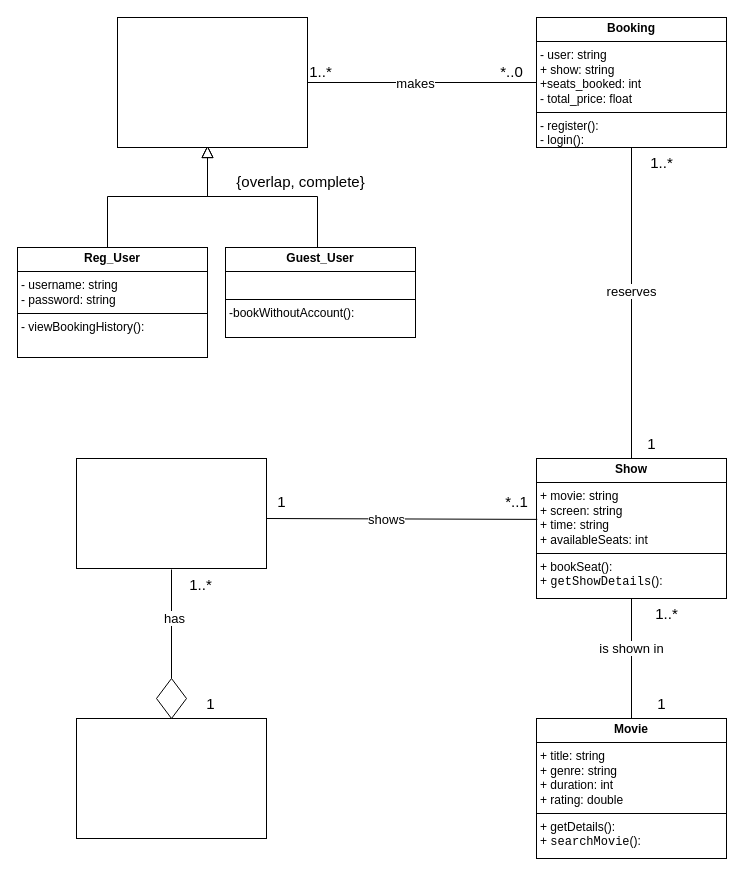
This 744x876 diagram has some shape labels left out. The centre of each missing label's shape, as x and y in pixels:
Screen + screenNumber: int + seatCapacity : int + getSDetails ():: the point at 171,513
Theater + name: string + location: string + screens: int + getAvailableShows():: the point at 171,778
User - Name: string - Email: string - Phone_num: int - register(): - login():: the point at 212,82
